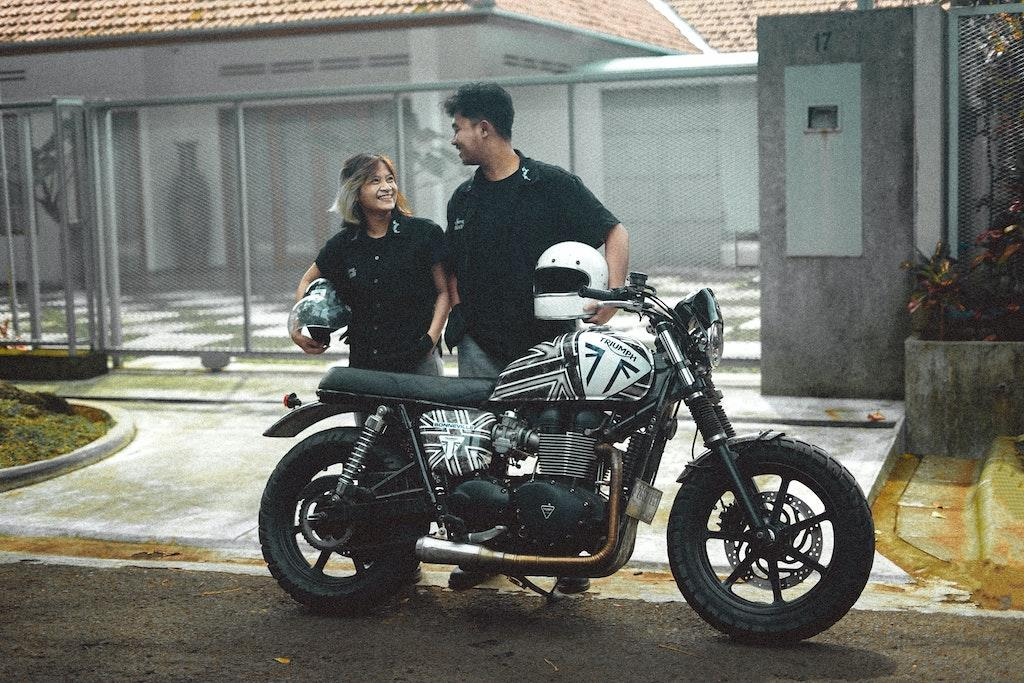helmet: (532, 239, 611, 322)
nohelmet: (444, 80, 516, 167), (327, 150, 410, 217)
